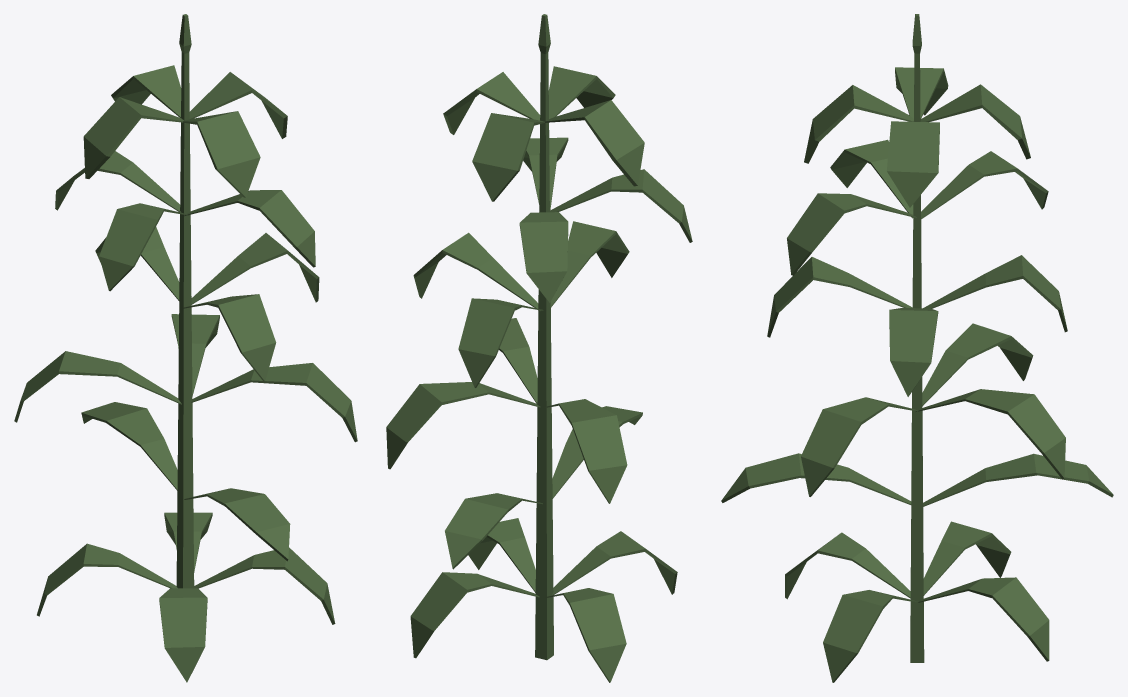
File: corn_1.glb
3 views of the same model, side by side, from view 1: azimuth 30°, elevation 25°; view 2: azimuth 150°, elevation 25°; view 3: azimuth 270°, elevation 25° (orthographic).
Visible parts, largest first — view 1: Corn_1; view 2: Corn_1; view 3: Corn_1.
Part boxes in pixels (left/top/right/bottom): Corn_1: left=14, top=14, right=357, bottom=682; Corn_1: left=386, top=14, right=692, bottom=682; Corn_1: left=721, top=14, right=1113, bottom=682.
Bounding box in the file's own units: 0.8237 × 1.98 × 1.09.
